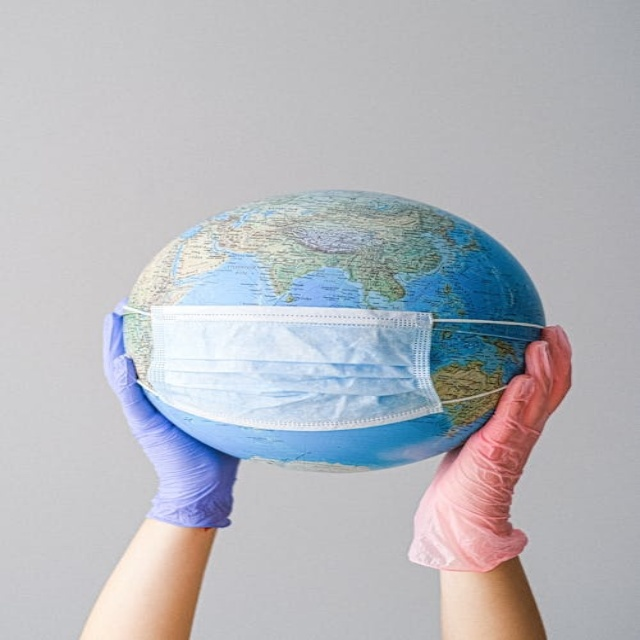Guantes: (410, 328, 572, 573), (105, 302, 240, 529)
